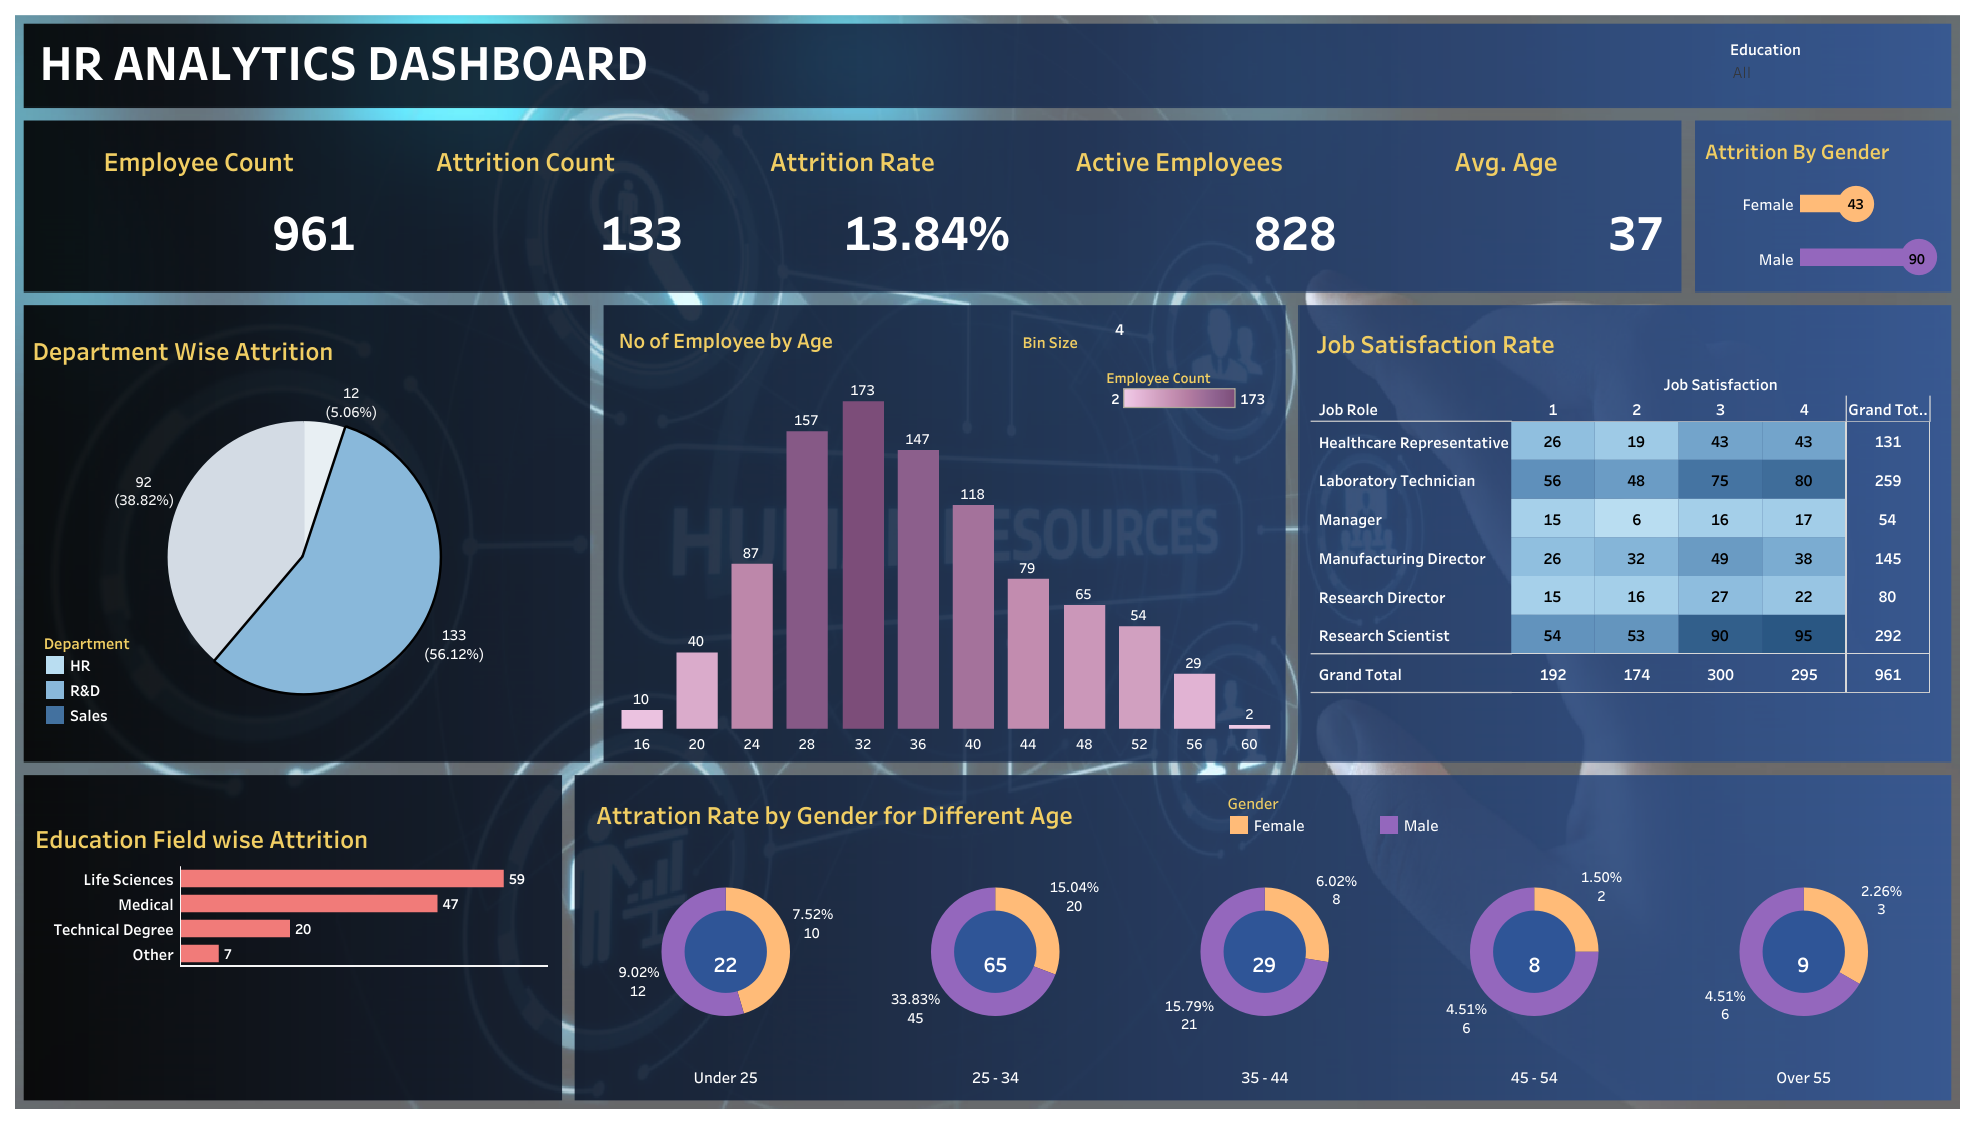

Layout of this report page (visuals, bound fields, positions):
{"tool":"tableau","page":{"name":"Dashboard 1","canvas":[1580,900],"ordinal":0},"visuals":[{"type":"text","box":[29,6,755,85]},{"type":"image","param":"Image/HR background Final.png","box":[8,8,1564,884]},{"type":"filter","title":"Department Wise Attrition","param":"[federated.0qdqgmw1ok0drx1fhyrhk13meul5].[none:Education:nk]","box":[1384,29,160,45]},{"type":"worksheet","title":"KPI","mark":"Automatic","box":[28,103,1308,124]},{"type":"worksheet","title":"Attrition By Gender","mark":"Automatic","rows":["Gender"],"cols":["Calculation_1250030385021632512","Calculation_1250030385021632512"],"box":[1360,103,195,125]},{"type":"worksheet","title":"No of Employee by Age","mark":"Automatic","rows":["Employee Count"],"cols":["Age (bin)"],"box":[491,254,531,349]},{"type":"parameter","param":"[Parameters].[Parameter 1]","box":[818,254,202,38]},{"type":"worksheet","title":"Job Satisfaction Rate","mark":"Square","rows":["Job Role"],"cols":["Job Satisfaction"],"box":[1049,255,532,345]},{"type":"worksheet","title":"Department Wise Attrition","mark":"Pie","box":[22,261,441,327]},{"type":"legend","title":"No of Employee by Age","param":"[federated.0qdqgmw1ok0drx1fhyrhk13meul5].[sum:Employee Count:qk]","box":[885,290,132,88]},{"type":"legend","title":"Department Wise Attrition","param":"[federated.0qdqgmw1ok0drx1fhyrhk13meul5].[none:Department:nk]","box":[34,503,140,85]},{"type":"legend","title":"Attration Rate by Gender for Different Age ","param":"[federated.0qdqgmw1ok0drx1fhyrhk13meul5].[none:Gender:nk]","box":[981,631,436,64]},{"type":"worksheet","title":"Attration Rate by Gender for Different Age ","mark":"Pie","rows":["Calculation_1250030385122787332","Calculation_1250030385122787332"],"cols":["CF_age band"],"box":[473,632,1078,238]},{"type":"worksheet","title":"Education Field wise Attrition","mark":"Automatic","rows":["Education Field"],"cols":["Calculation_1250030385021632512"],"box":[24,651,414,221]}]}

Visuals, with their boxes in screenshot pixels (x1, y1, x2, y2), scaled from the page's 1580x900 canvas onto the 1974x1124 screenshot:
text: {"left": 36, "top": 7, "right": 980, "bottom": 114}
image: {"left": 10, "top": 10, "right": 1964, "bottom": 1114}
"Department Wise Attrition" filter: {"left": 1729, "top": 36, "right": 1929, "bottom": 92}
"KPI" worksheet: {"left": 35, "top": 129, "right": 1669, "bottom": 283}
"Attrition By Gender" worksheet: {"left": 1699, "top": 129, "right": 1943, "bottom": 285}
"No of Employee by Age" worksheet: {"left": 613, "top": 317, "right": 1277, "bottom": 753}
parameter: {"left": 1022, "top": 317, "right": 1274, "bottom": 365}
"Job Satisfaction Rate" worksheet (Square marks): {"left": 1311, "top": 318, "right": 1973, "bottom": 749}
"Department Wise Attrition" worksheet (Pie marks): {"left": 27, "top": 326, "right": 578, "bottom": 734}
"No of Employee by Age" legend: {"left": 1106, "top": 362, "right": 1271, "bottom": 472}
"Department Wise Attrition" legend: {"left": 42, "top": 628, "right": 217, "bottom": 734}
"Attration Rate by Gender for Different Age " legend: {"left": 1226, "top": 788, "right": 1770, "bottom": 868}
"Attration Rate by Gender for Different Age " worksheet (Pie marks): {"left": 591, "top": 789, "right": 1938, "bottom": 1087}
"Education Field wise Attrition" worksheet: {"left": 30, "top": 813, "right": 547, "bottom": 1089}
